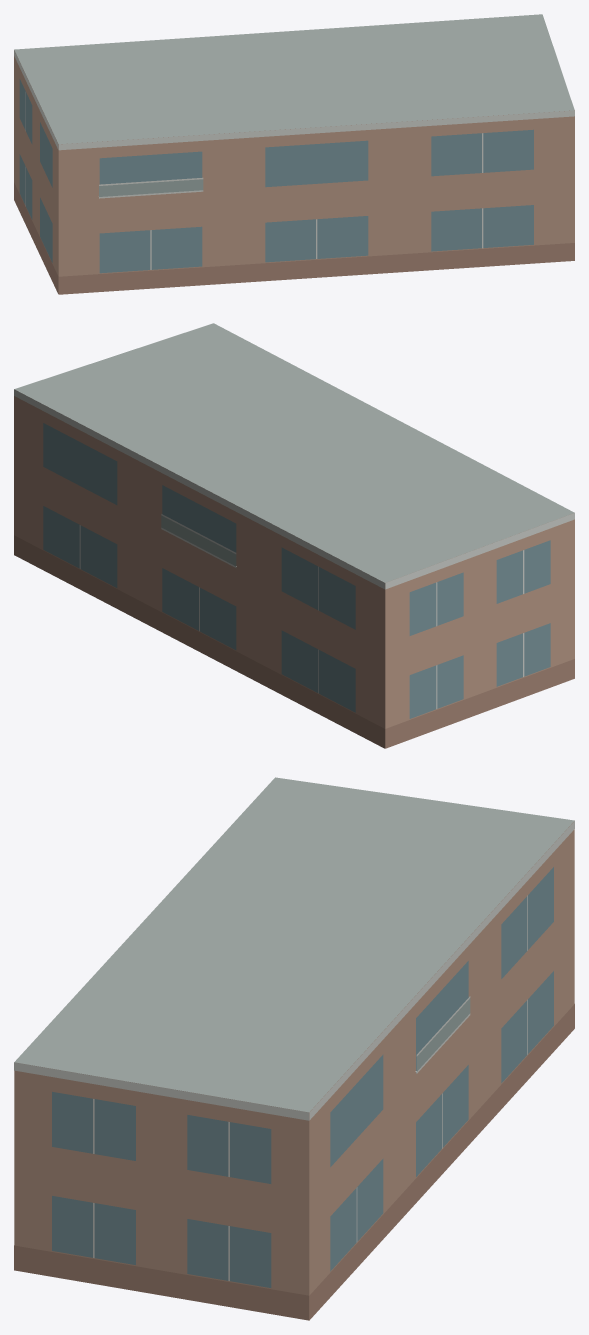
File: survey-upis-32944932.glb
The picture shows the model from 3 angles, top to bottom: view 1: azimuth 30°, elevation 25°; view 2: azimuth 150°, elevation 25°; view 3: azimuth 270°, elevation 25°; orthographic projection. The views are drawn at different scales.
Parts seen in each view (by area): view 1: survey-upis-32944932.tmp; view 2: survey-upis-32944932.tmp; view 3: survey-upis-32944932.tmp.
Part boxes in pixels (box(x1,y1,x2,y2)): survey-upis-32944932.tmp: box(14, 14, 574, 294); survey-upis-32944932.tmp: box(14, 323, 574, 748); survey-upis-32944932.tmp: box(14, 777, 574, 1320).
Size of the model in its own units: 21.08 by 6.1 by 14.91.
